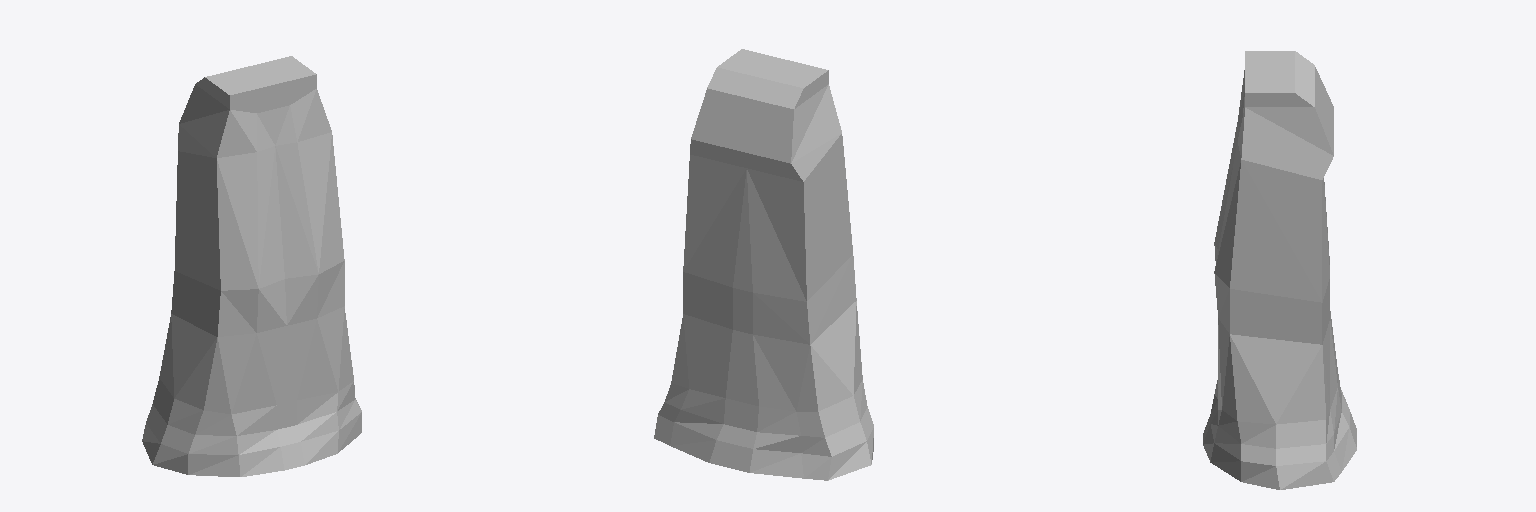
Rendered from dress.obj.
The picture shows the model from 3 angles: view 1: azimuth 30°, elevation 25°; view 2: azimuth 150°, elevation 25°; view 3: azimuth 270°, elevation 25°; orthographic projection.
Size of the model in its own units: 0.62 by 1.05 by 0.4.